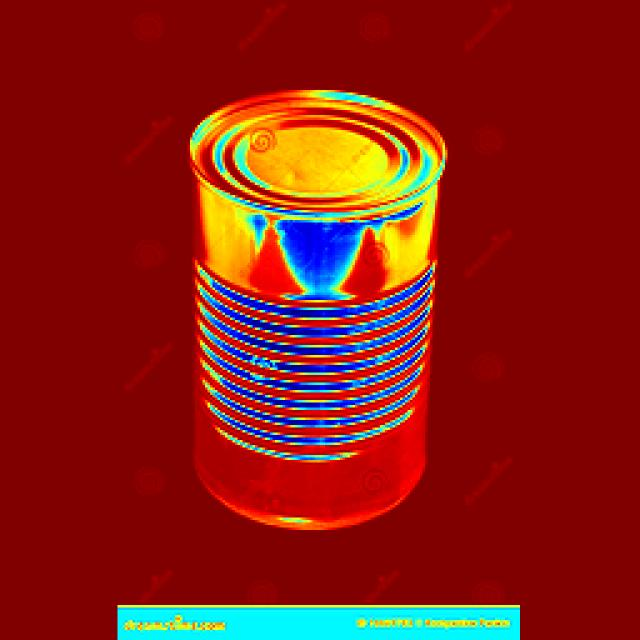Aluminium Food Cans: (192, 87, 446, 505)
